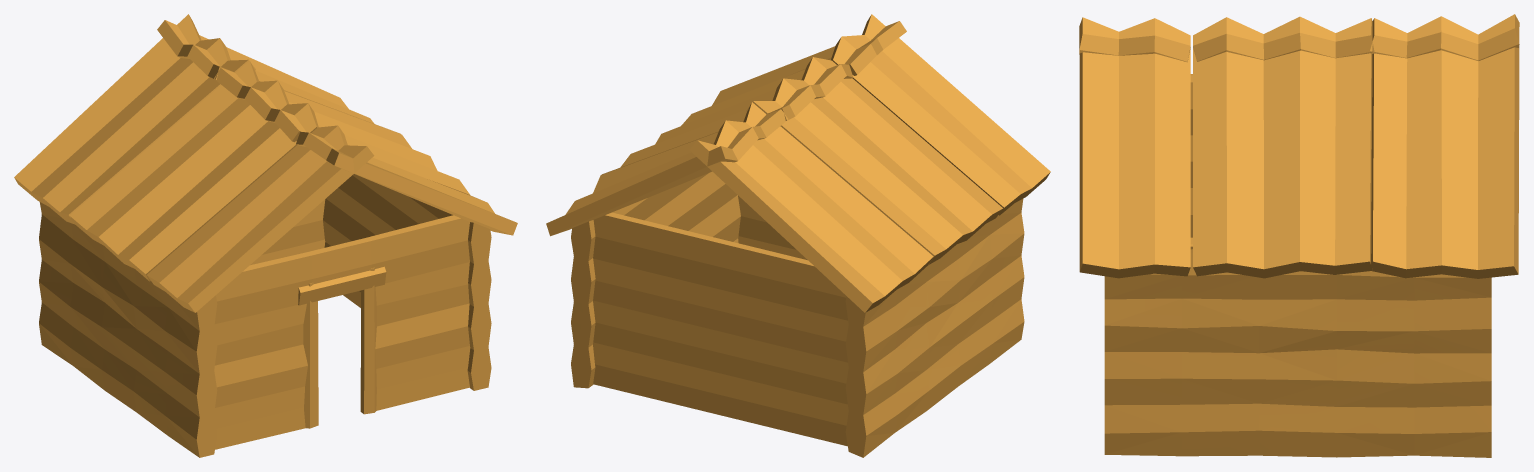
File: shack.fbx
The picture shows the model from 3 angles, left to right: view 1: azimuth 30°, elevation 25°; view 2: azimuth 150°, elevation 25°; view 3: azimuth 270°, elevation 25°; orthographic projection. The views are drawn at different scales.
Parts seen in each view (by area): view 1: shack; view 2: shack; view 3: shack.
Boxes of the visible parts, x1,y1,x2,y2 form: shack: [14, 14, 517, 457]; shack: [546, 14, 1050, 457]; shack: [1079, 14, 1519, 457].
Size of the model in its own units: 5.61 by 4.61 by 5.25.
